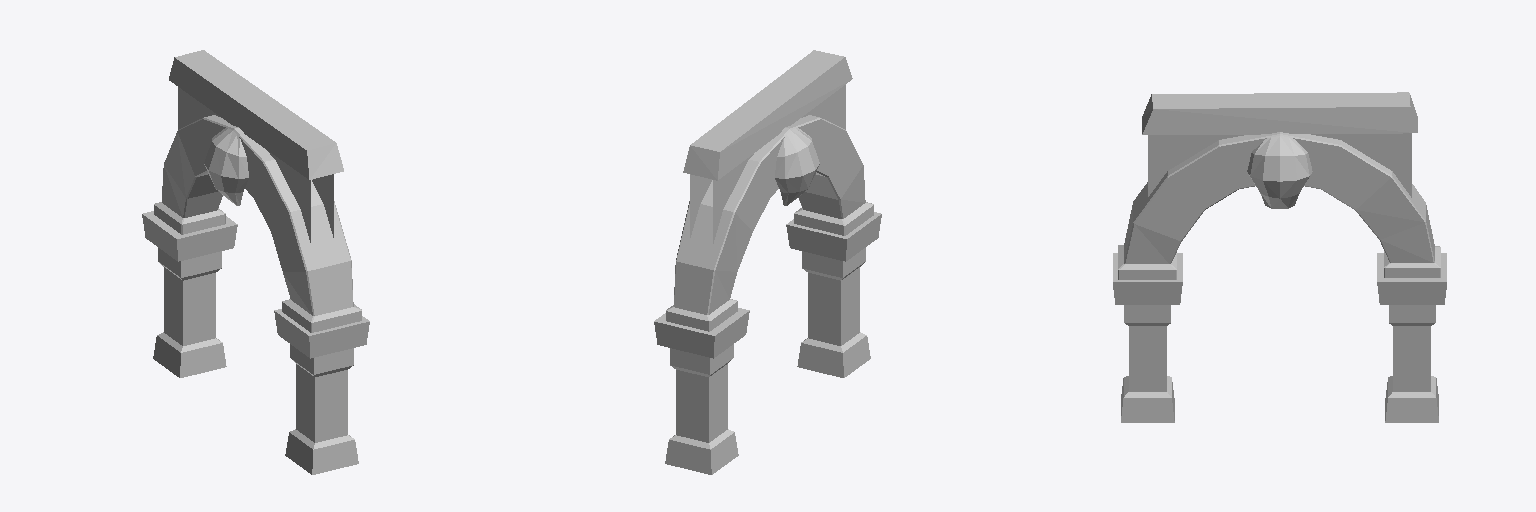
File: Gate_open.obj
The picture shows the model from 3 angles: view 1: azimuth 30°, elevation 25°; view 2: azimuth 150°, elevation 25°; view 3: azimuth 270°, elevation 25°; orthographic projection.
Parts seen in each view (by area): view 1: Gate_open; view 2: Gate_open; view 3: Gate_open.
Part boxes in pixels (x1,y1,x2,y2): Gate_open: (142,50,369,474); Gate_open: (654,50,881,474); Gate_open: (1113,92,1446,422).
Bounding box in the file's own units: 4.14 × 12.96 × 12.66.